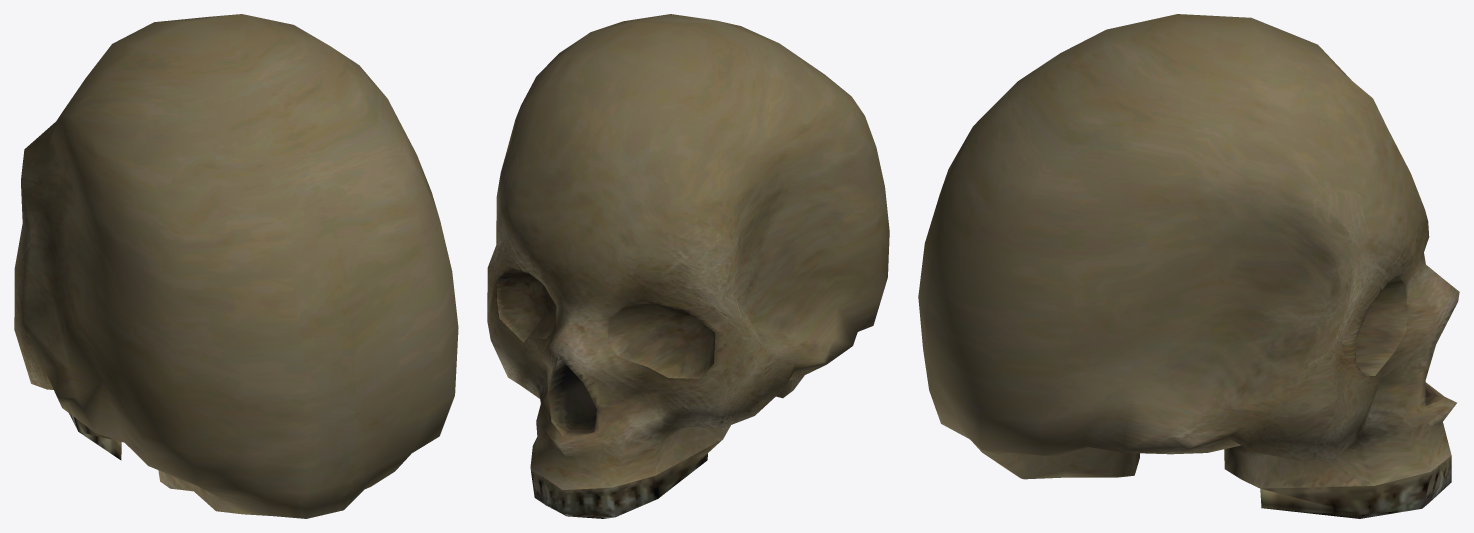
The model's file is human_skull.dae.
The picture shows the model from 3 angles, left to right: view 1: azimuth 30°, elevation 25°; view 2: azimuth 150°, elevation 25°; view 3: azimuth 270°, elevation 25°; orthographic projection. The views are drawn at different scales.
Parts seen in each view (by area): view 1: polySurface3; view 2: polySurface3; view 3: polySurface3.
Part boxes in pixels (x1,y1,x2,y2): polySurface3: [14, 14, 458, 518]; polySurface3: [487, 14, 889, 518]; polySurface3: [918, 14, 1459, 518].
Size of the model in its own units: 0.2212 by 0.2864 by 0.3066.
